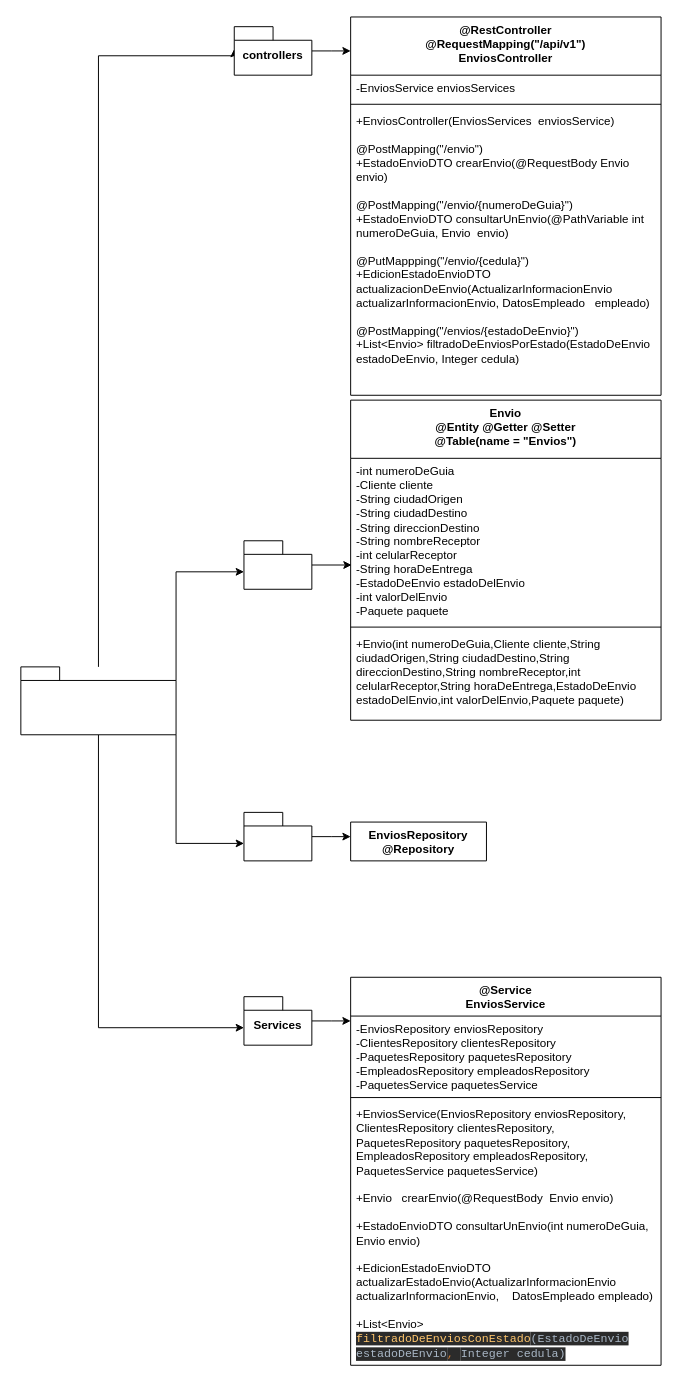
The diagram is 678 pixels wide and 1385 high, and some of its shapes have lost their labels. The centre of each missing label's shape, as x and y in pixels:
"DTO" belongs at pixel 277 564.
"Repository" belongs at pixel 277 836.
"workshop.MensajeriaExpress" belongs at pixel 98 700.
